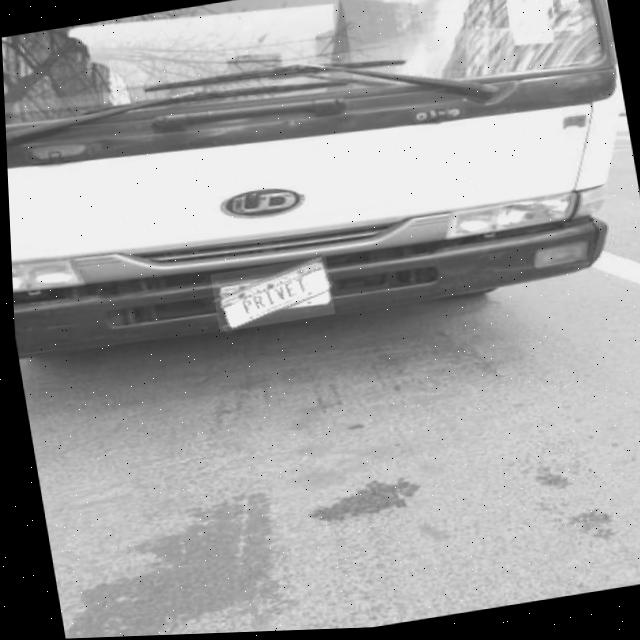LicensePlate: (212, 259, 328, 332)
